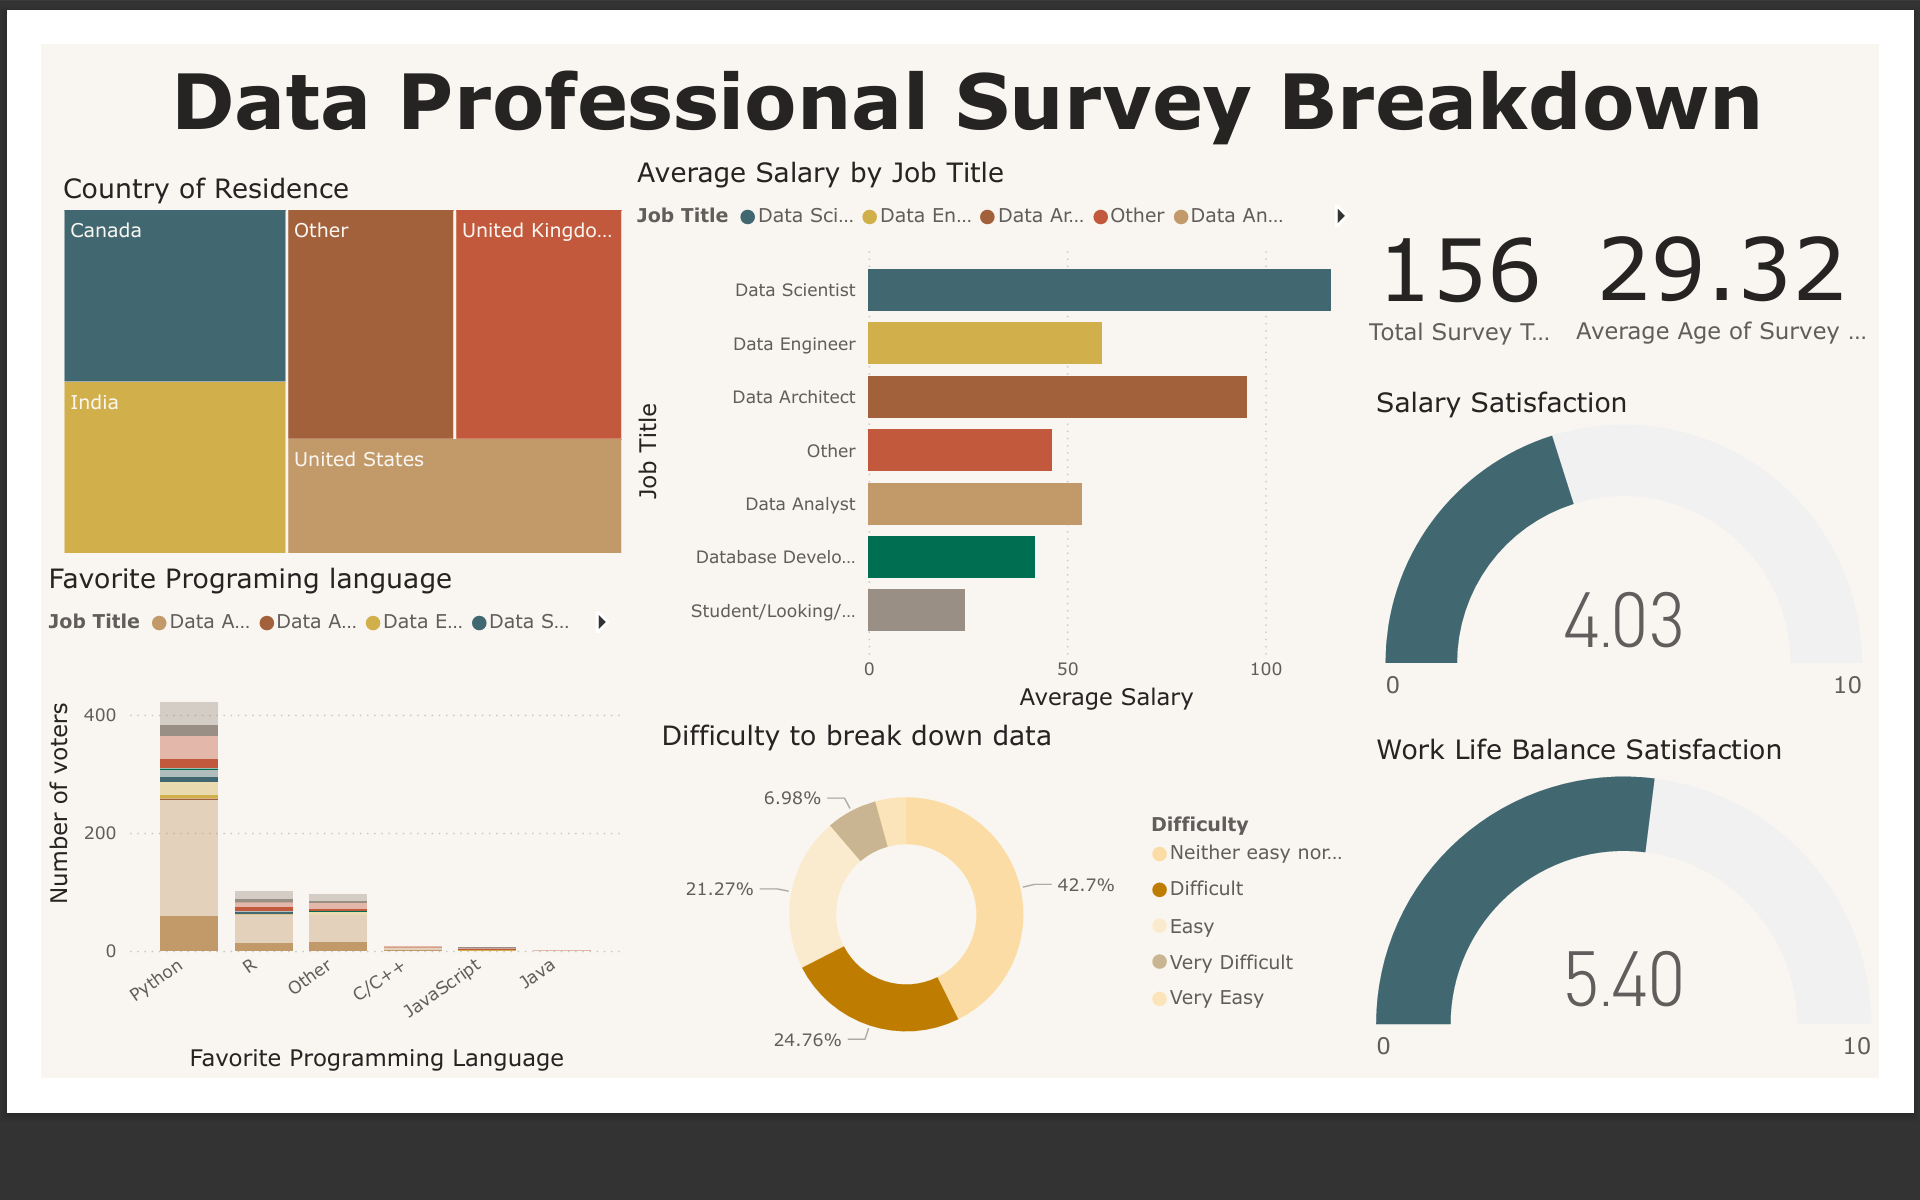

The dashboard page shown, as its layout file describes it:
{"tool":"powerbi","page":{"name":"Page 1","canvas":[1280,720],"ordinal":0},"visuals":[{"type":"textbox","box":[9.6,0,1270.8,87.8],"z":0},{"type":"card","fields":{"Values":["Count(Data Professional Survey.Unique ID)"]},"box":[915.3,87.8,145.5,149.6],"z":1},{"type":"card","fields":{"Values":["Avg(Data Professional Survey.Q10 - Current Age)"]},"box":[1060.8,86.5,219.6,151],"z":2},{"type":"barChart","title":"Average Salary by Job Title","fields":{"Category":["Data Professional Survey.Q1 - Which Title Best Fits your Current Role?.1"],"Y":["Avg(Data Professional Survey.AvgSal)"],"Series":["Data Professional Survey.Q1 - Which Title Best Fits your Current Role?.1"]},"box":[410.3,76.9,514.6,392.5],"z":3},{"type":"columnChart","title":"Favorite Programing language","fields":{"Category":["Data Professional Survey.Q5 - Favorite Programming Language.1"],"Y":["CountNonNull(Data Professional Survey.Unique ID)"],"Series":["Data Professional Survey.Q1 - Which Title Best Fits your Current Role?.1"]},"box":[0,359.5,410.3,360.9],"z":4},{"type":"treemap","title":"Country of Residence","fields":{"Group":["Data Professional Survey.Q11 - Which Country do you live in?.1"],"Values":["Count(Data Professional Survey.Q11 - Which Country do you live in?.1)"]},"box":[9.6,87.8,400.7,271.7],"z":5},{"type":"gauge","title":"Salary Satisfaction","fields":{"Y":["Avg(Data Professional Survey.Q6 - How Happy are you in your Current Position with the following? (Salary))"],"MinValue":["Min(Data Professional Survey.Q6 - How Happy are you in your Current Position with the following? (Salary))"],"MaxValue":["Max(Data Professional Survey.Q6 - How Happy are you in your Current Position with the following? (Salary))"]},"box":[924.9,237.4,355.4,227.8],"z":6},{"type":"gauge","title":"Work Life Balance Satisfaction","fields":{"Y":["Avg(Data Professional Survey.Q6 - How Happy are you in your Current Position with the following? (Work/Life Balance))"],"MinValue":["Min(Data Professional Survey.Q6 - How Happy are you in your Current Position with the following? (Work/Life Balance))"],"MaxValue":["Max(Data Professional Survey.Q6 - How Happy are you in your Current Position with the following? (Work/Life Balance))"]},"box":[924.9,478.9,355.4,241.5],"z":7},{"type":"donutChart","title":"Difficulty to break down data","fields":{"Category":["Data Professional Survey.Q7 - How difficult was it for you to break into Data?"],"Y":["CountNonNull(Data Professional Survey.Q7 - How difficult was it for you to break into Data?)"]},"box":[426.8,469.3,498.2,251.1],"z":8}]}

Visuals, with their boxes on the page's 1280x720 design canvas (x1, y1, x2, y2). These are canvas units, not pixel positions in the 1920x1200 screenshot, which may show the page scaled, cropped or inside an application window:
textbox: x1=10, y1=0, x2=1280, y2=88
card - Count(Data Professional Survey.Unique ID): x1=915, y1=88, x2=1061, y2=237
card - Avg(Data Professional Survey.Q10 - Current Age): x1=1061, y1=86, x2=1280, y2=238
"Average Salary by Job Title" barChart: x1=410, y1=77, x2=925, y2=469
"Favorite Programing language" columnChart: x1=0, y1=360, x2=410, y2=720
"Country of Residence" treemap: x1=10, y1=88, x2=410, y2=360
"Salary Satisfaction" gauge: x1=925, y1=237, x2=1280, y2=465
"Work Life Balance Satisfaction" gauge: x1=925, y1=479, x2=1280, y2=720
"Difficulty to break down data" donutChart: x1=427, y1=469, x2=925, y2=720
